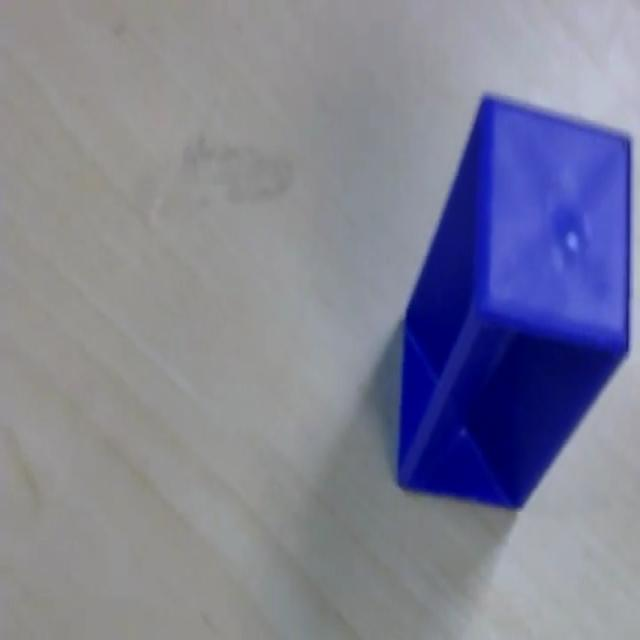blue_block: (394, 88, 633, 509)
